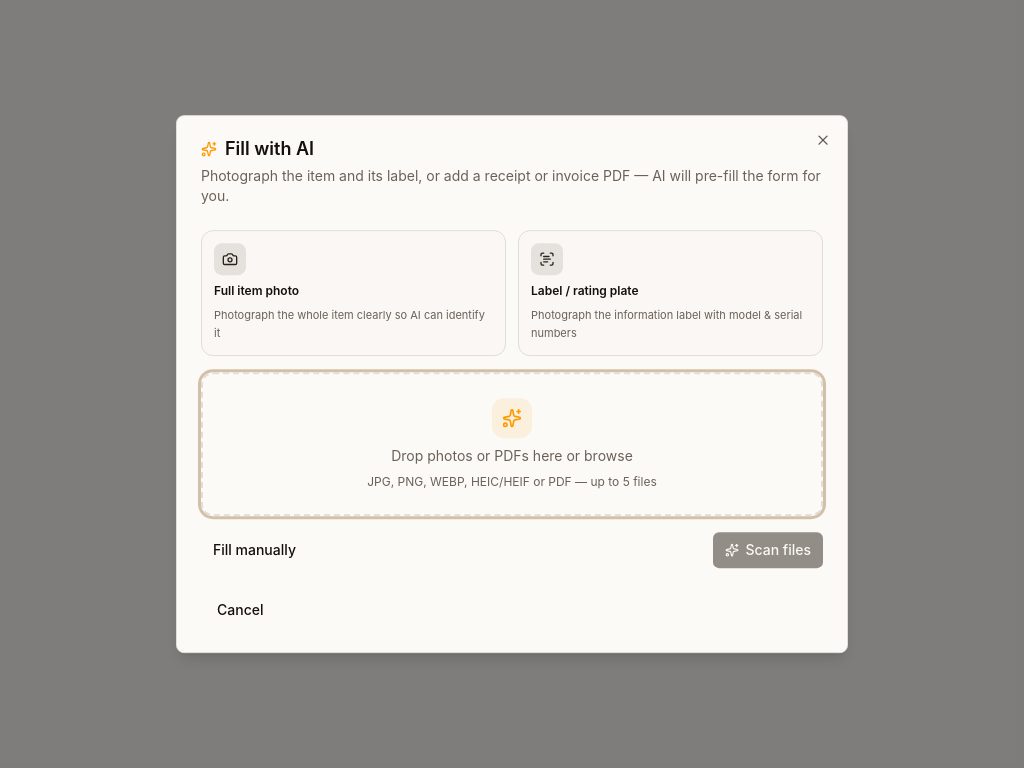
Test: <CommodityFormDialog /> › walks past the AI step into Basics on Next
This screenshot has width=1024, height=768.
Click the button with test id "commodity-form-ai-fill-manually".
click(254, 550)  # box [201,534,308,566]
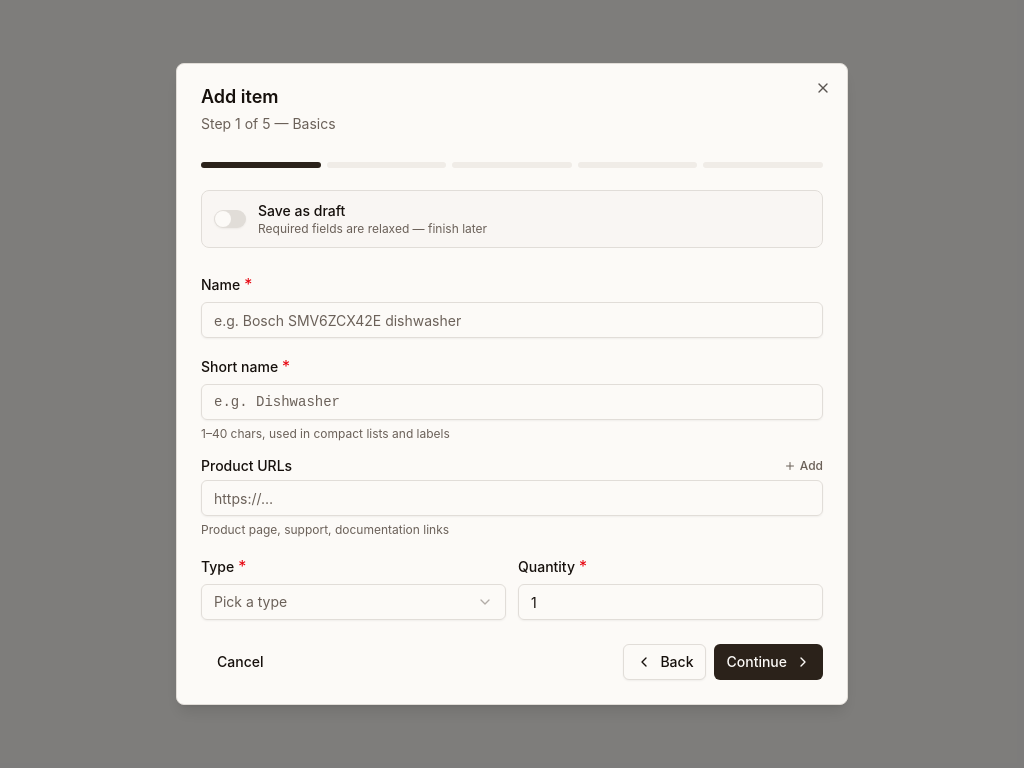
Check: the field labelled "Name" is shown, box [201,302,823,338]
